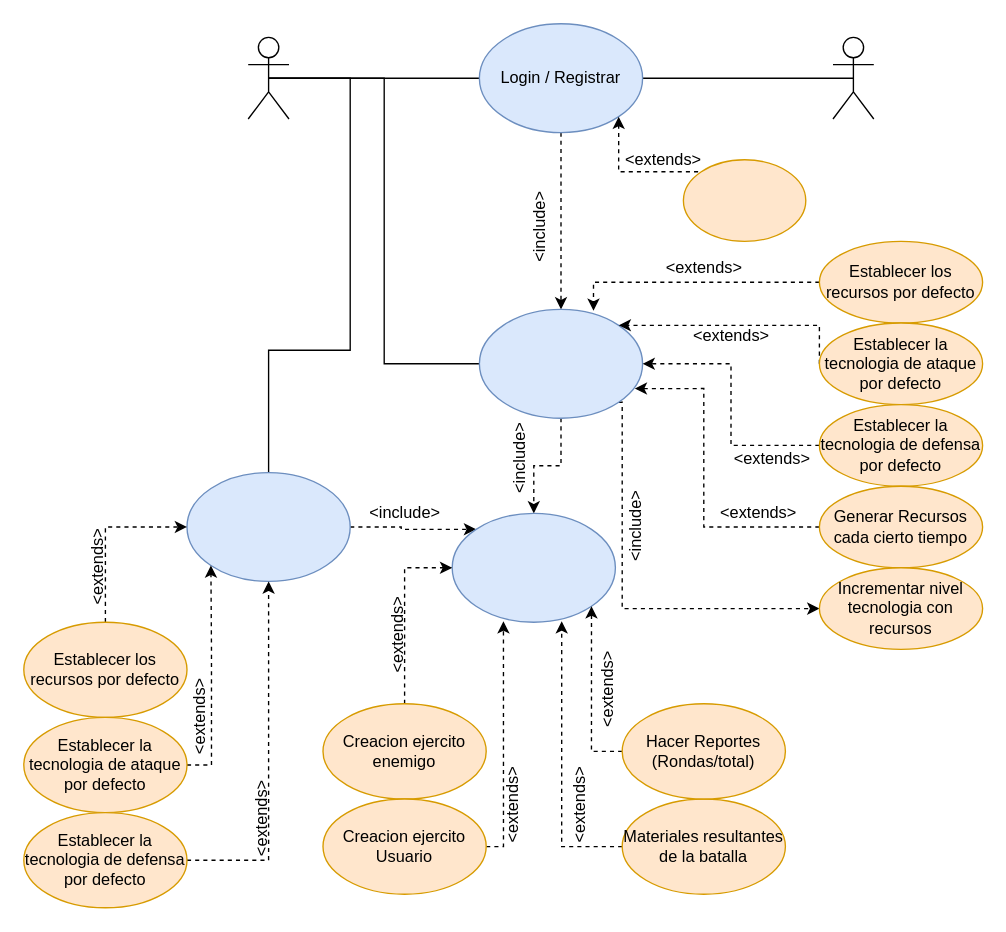
The diagram is 1006 pixels wide and 932 high, and some of its shapes have lost their labels. Here are the shapes that lost their labels. From the top down, the centre of each, then its label:
(x=268, y=77): Sistema
(x=853, y=77): Usuario
(x=744, y=199): Validacion de datos
(x=560, y=363): Creacion del Planeta para el Usuario
(x=268, y=526): Creacion del Planeta Enemigo
(x=533, y=567): Batallas
